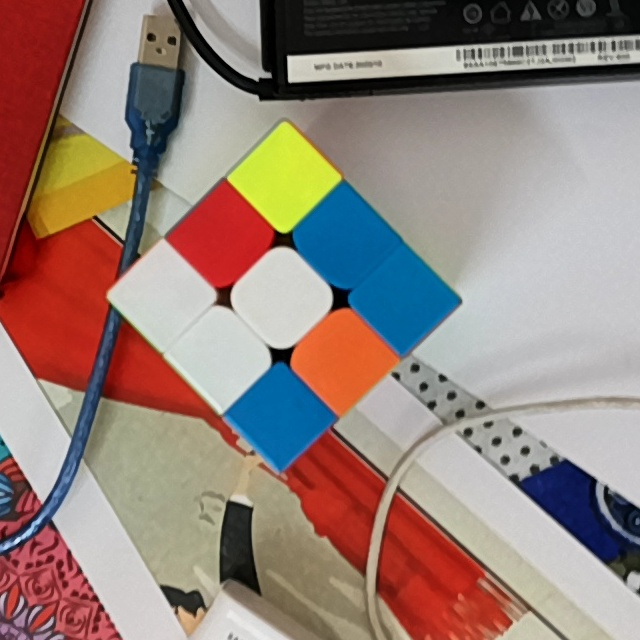tile: (313, 211, 373, 267), (252, 268, 308, 327), (193, 325, 249, 384), (196, 208, 253, 265), (373, 272, 432, 327), (313, 330, 369, 387), (138, 265, 191, 324), (254, 150, 314, 202), (253, 389, 308, 445)
